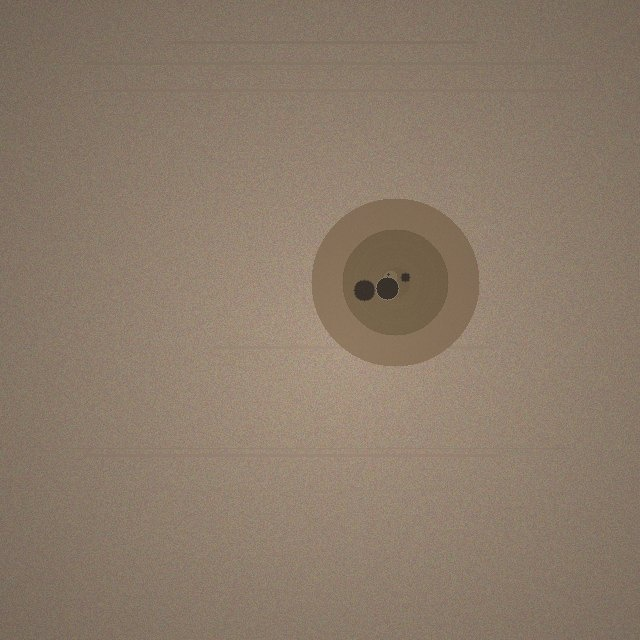shrinkage: (311, 198, 479, 366)
